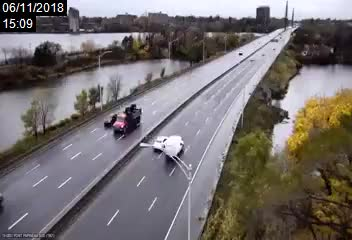personal_car: (163, 134, 185, 158), (152, 135, 170, 150), (103, 112, 117, 128)
truck: (113, 104, 143, 134)
